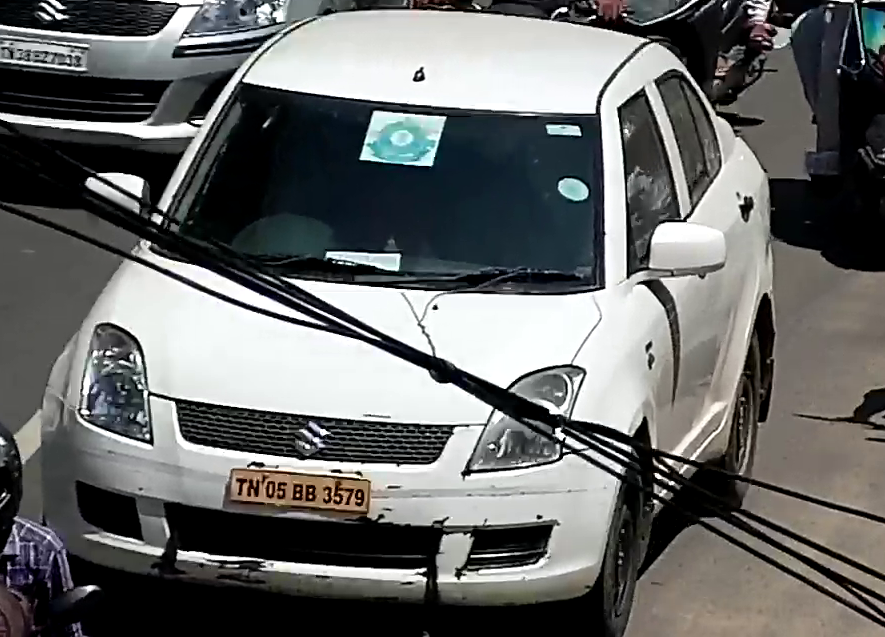0: (265, 480, 276, 499)
3: (322, 486, 333, 504)
5: (276, 480, 287, 499), (333, 486, 344, 505)
7: (344, 488, 354, 505)
9: (355, 488, 365, 507)
B: (291, 482, 304, 501), (304, 484, 317, 502)
N: (247, 478, 260, 498)
P9: (227, 465, 372, 515)
T: (235, 476, 247, 495)
